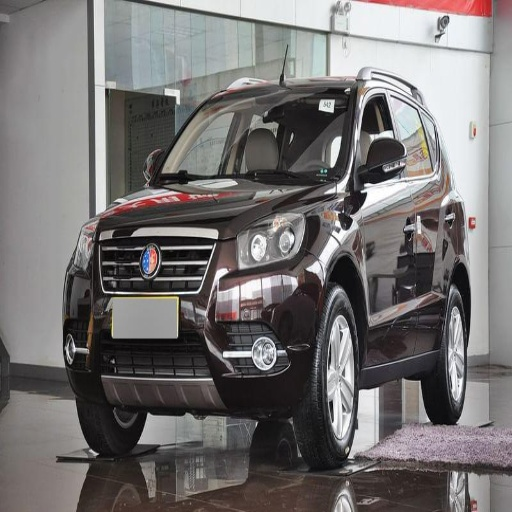front_bumper: (66, 219, 322, 404)
front_glass: (156, 94, 347, 184)
front_left_door: (355, 88, 417, 327)
